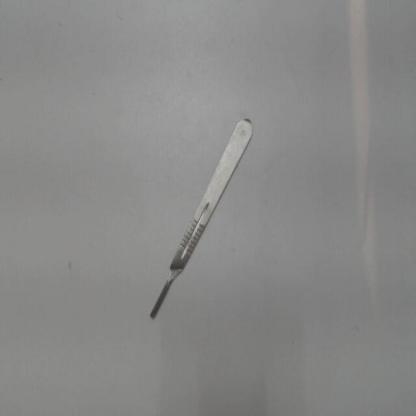No.4 BP Handle: (143, 109, 263, 329)
